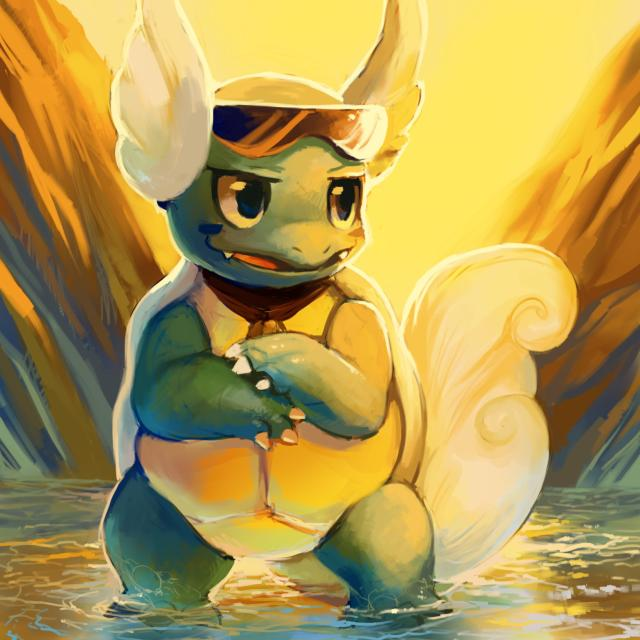Wartortle: (110, 43, 423, 622)
